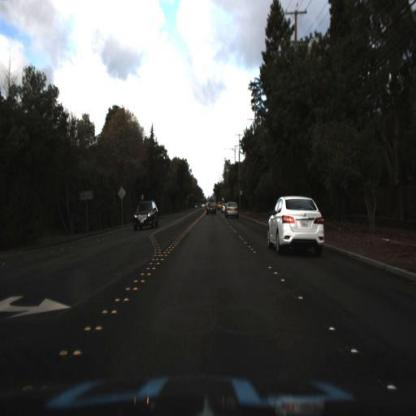car: (270, 191, 330, 264), (133, 198, 162, 229), (225, 199, 240, 221), (206, 198, 218, 214)
